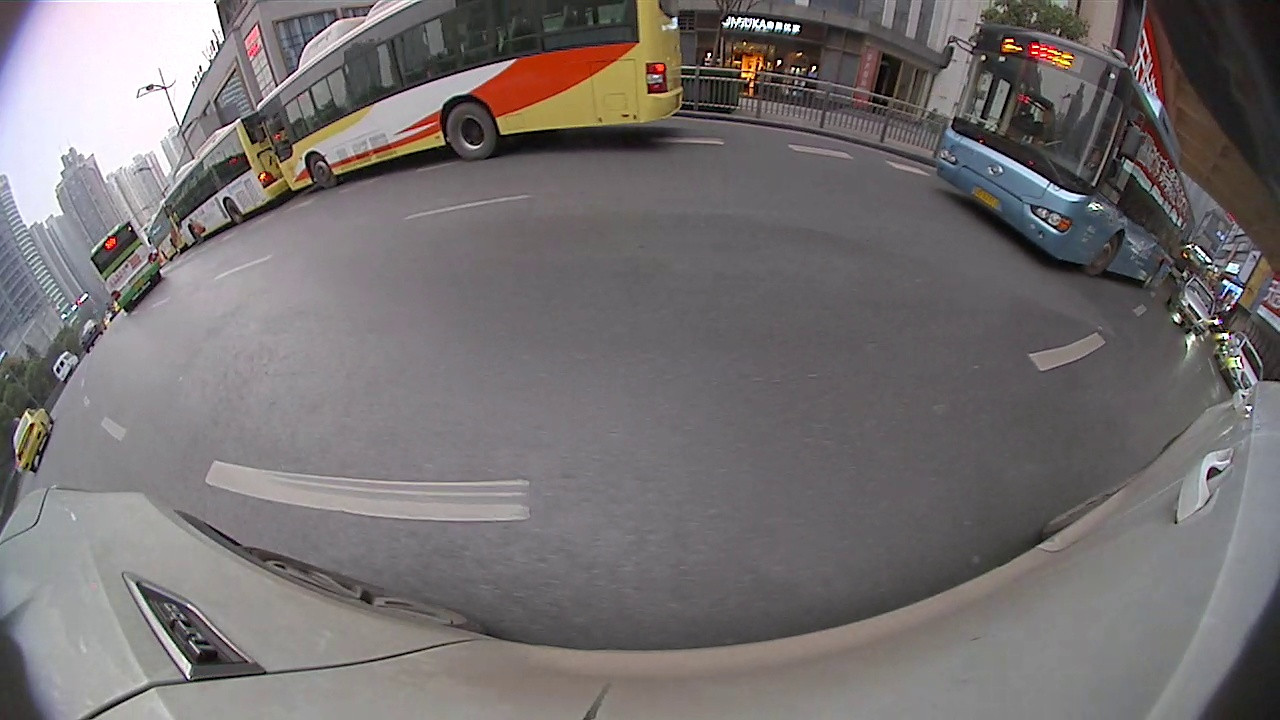bus: (257, 0, 689, 199), (940, 24, 1199, 291), (167, 108, 291, 246), (90, 209, 160, 311)
car: (7, 404, 57, 474), (1166, 272, 1219, 338), (1216, 330, 1268, 393)
front: (1086, 229, 1125, 276), (301, 155, 339, 188)
rear: (443, 106, 498, 160)
